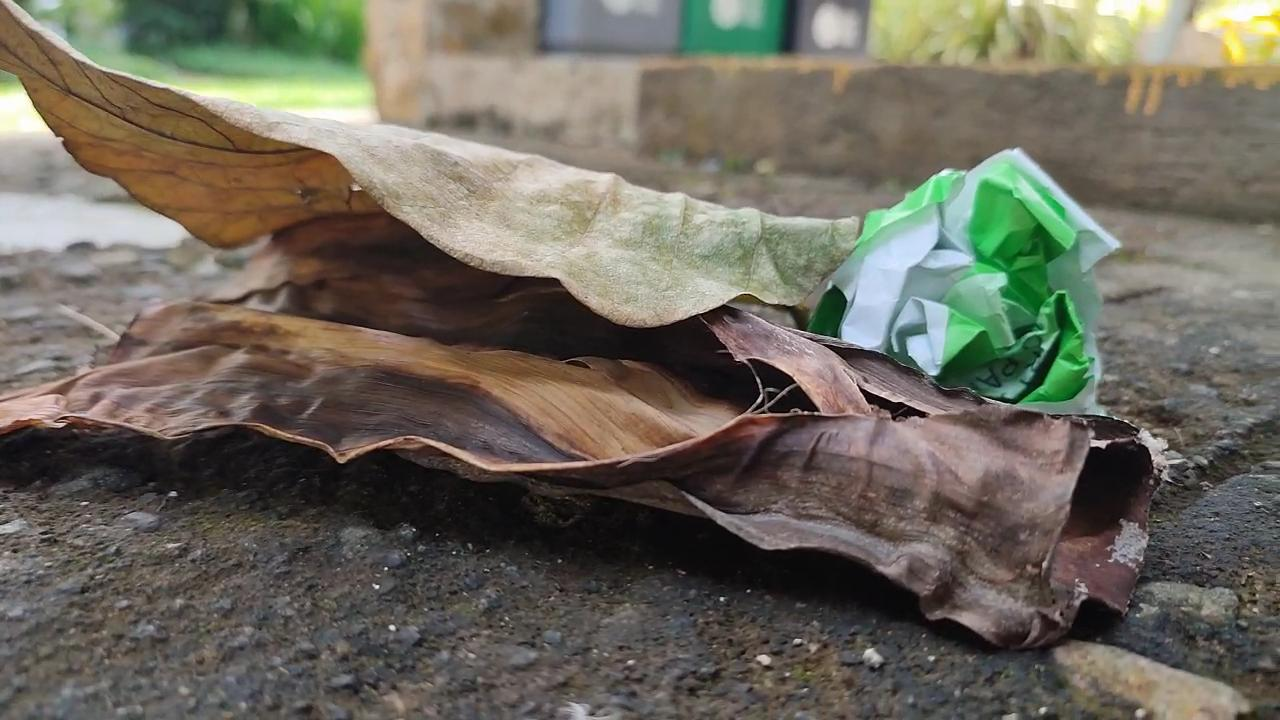Paper: (815, 129, 1125, 418)
